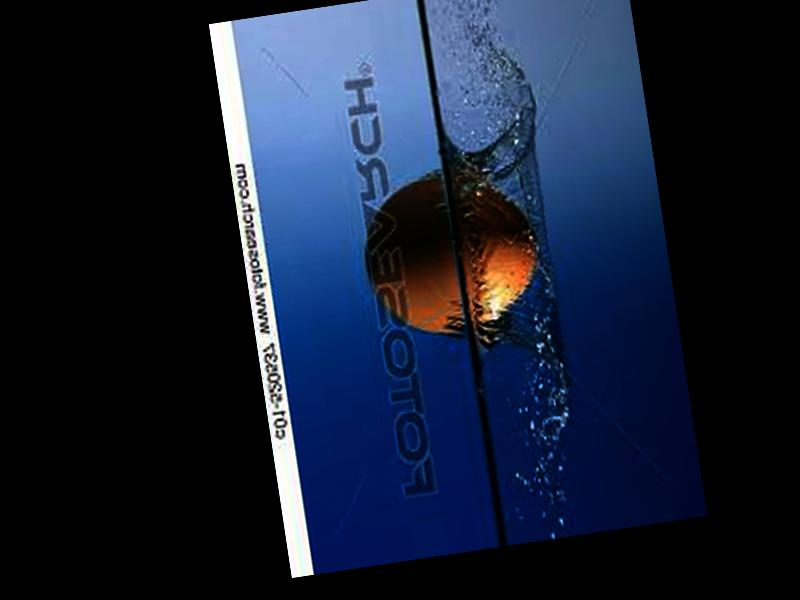Eggs: (357, 162, 548, 343)
